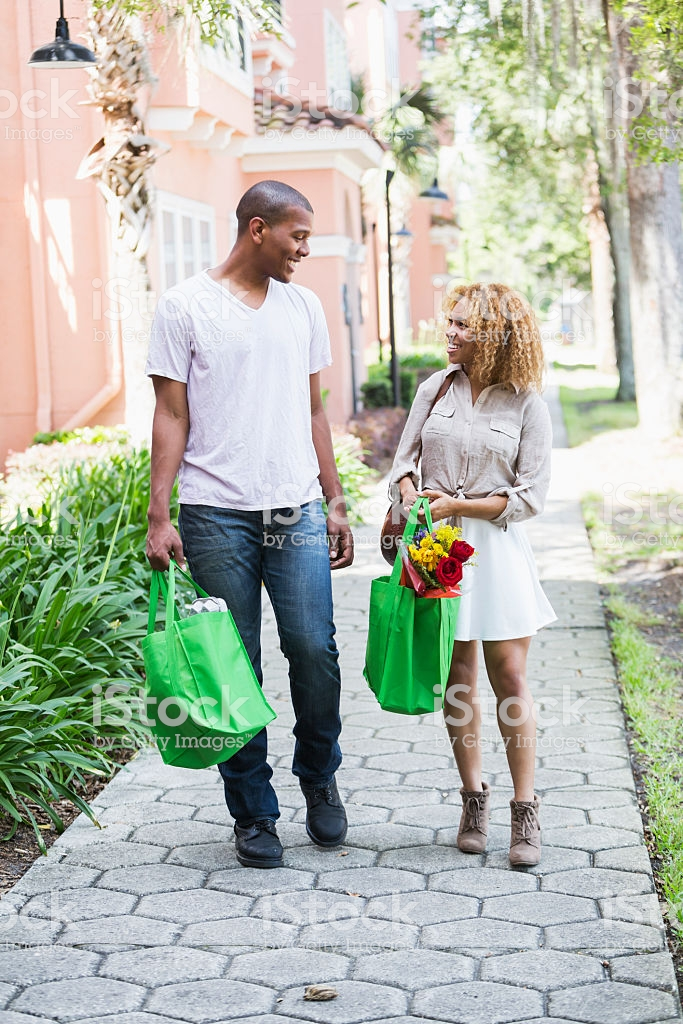Person: (126, 168, 376, 871), (384, 276, 560, 868)
